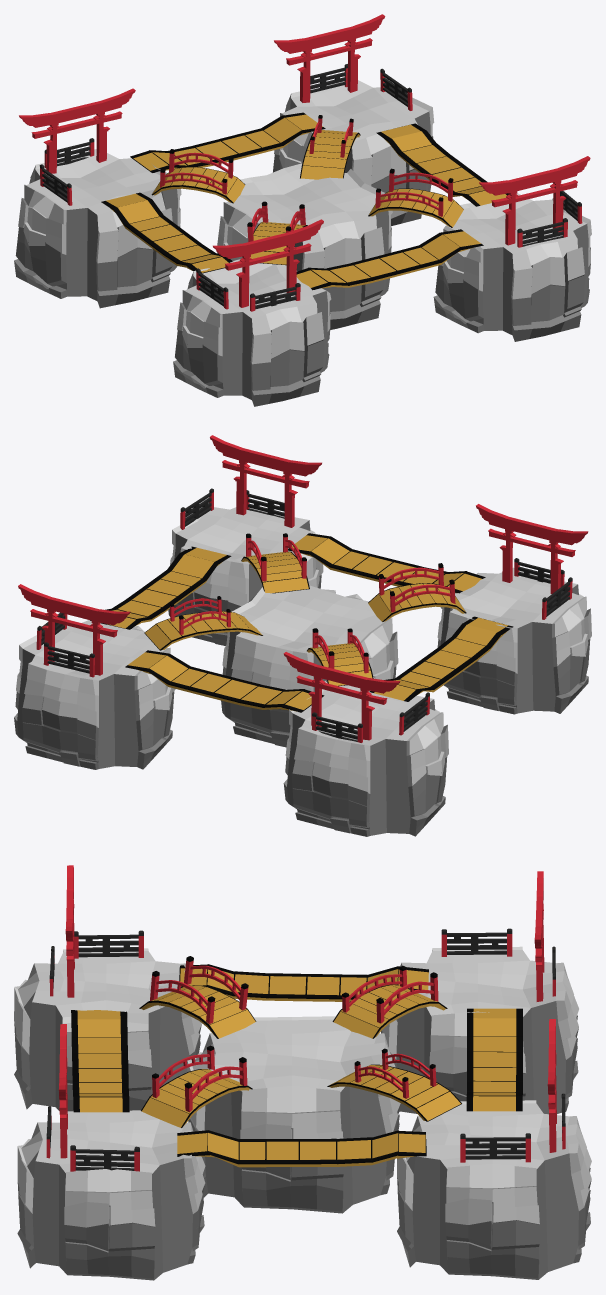
The model's file is Jembatan1.fbx.
The picture shows the model from 3 angles, top to bottom: view 1: azimuth 30°, elevation 25°; view 2: azimuth 150°, elevation 25°; view 3: azimuth 270°, elevation 25°; orthographic projection. The views are drawn at different scales.
Visible parts, largest first — view 1: tebing, tebing.001, tebing.002, tebing.004, tebing.003, Cube.005, Cube.002, Cube.004, Cube.003, pilar2.002, pilar, pilar2.001 (+16 smaller); view 2: tebing, tebing.003, tebing.001, tebing.004, tebing.002, Cube.004, Cube.002, Cube.003, Cube.005, pilar2.001, pilar2, pilar (+14 smaller); view 3: tebing.003, tebing.004, tebing.002, tebing.001, tebing, Cube.003, Cube.004, Cube.005, Cube.002, Cube.006, Cube.008, Cube.001 (+17 smaller).
Boxes of the visible parts, x1,y1,x2,y2 form: tebing: (14,149,181,308); tebing.001: (173,259,331,406); tebing.002: (433,193,591,341); tebing.004: (217,163,392,329); tebing.003: (273,80,434,226); Cube.005: (296,229,483,290); Cube.002: (101,192,232,273); Cube.004: (130,112,325,172); Cube.003: (376,123,508,206); pilar2.002: (274,14,385,102); pilar: (19,88,135,173); pilar2.001: (479,156,590,245); tebing: (283,677,448,836); tebing.003: (14,620,175,769); tebing.001: (437,567,591,714); tebing.004: (221,585,398,747); tebing.002: (168,507,323,645); Cube.004: (125,650,324,712); Cube.002: (369,616,513,701); Cube.003: (90,546,231,629); Cube.005: (288,533,485,593); pilar2.001: (210,435,321,527); pilar2: (476,504,588,593); pilar: (283,652,400,740); tebing.003: (397,1100,591,1279); tebing.004: (187,1016,400,1213); tebing.002: (17,1110,205,1280); tebing.001: (14,948,201,1111); tebing: (381,946,578,1114); Cube.003: (177,1130,426,1167); Cube.004: (466,1008,522,1111); Cube.005: (71,1010,129,1112); Cube.002: (179,964,428,1001); Cube.006: (327,1064,461,1121); Cube.008: (141,1069,252,1127); Cube.001: (332,984,447,1038).
Size of the model in its own units: 3617 by 1422 by 3589.
